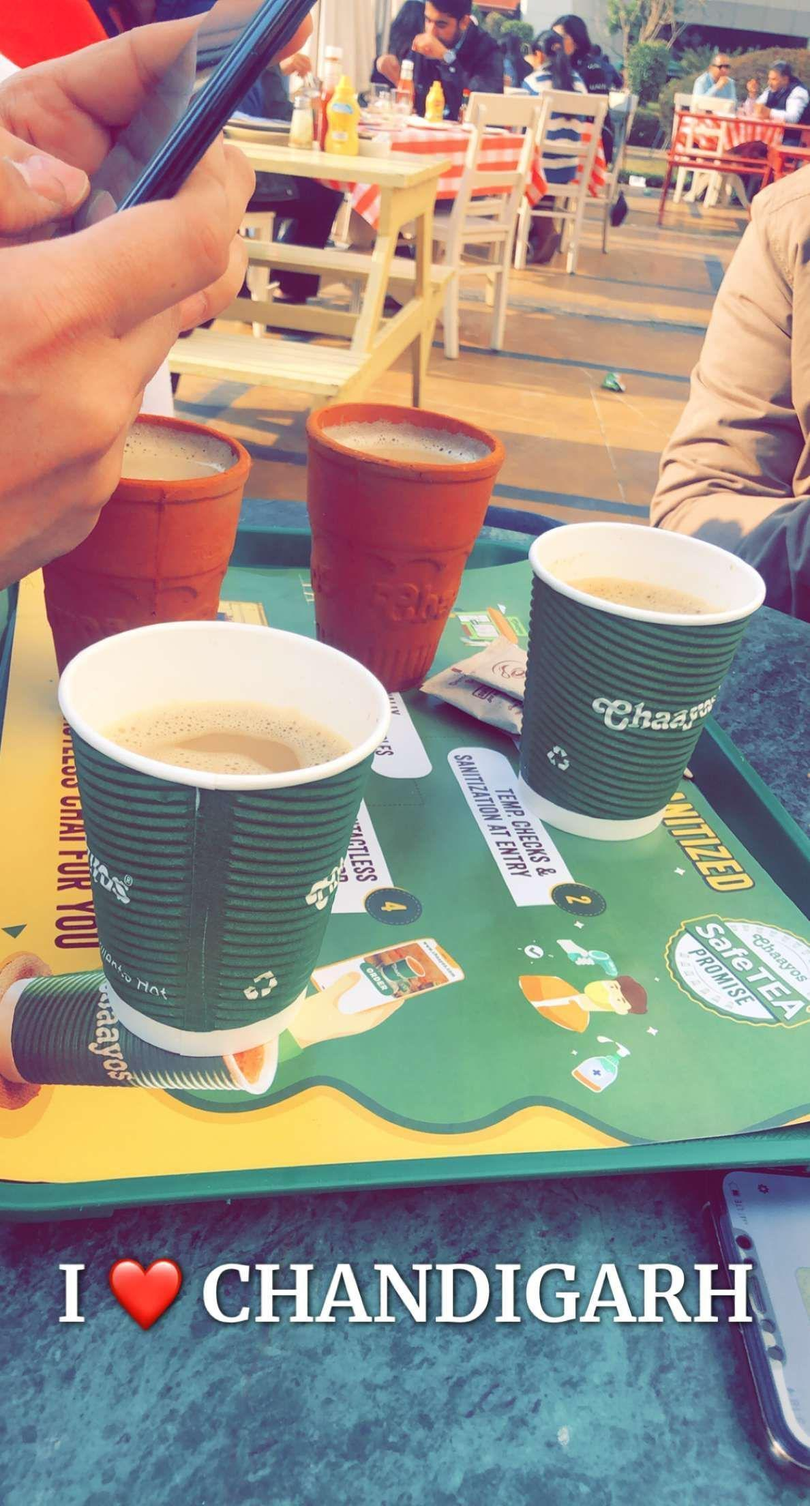cup-disposable: (57, 619, 393, 1054), (511, 520, 768, 836), (305, 400, 505, 693), (39, 412, 253, 658)
